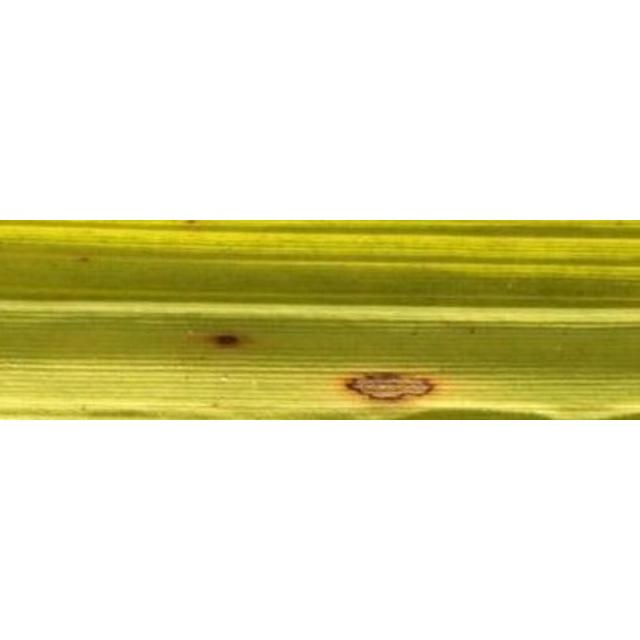Brown spot: (316, 352, 472, 416), (169, 313, 259, 361)
